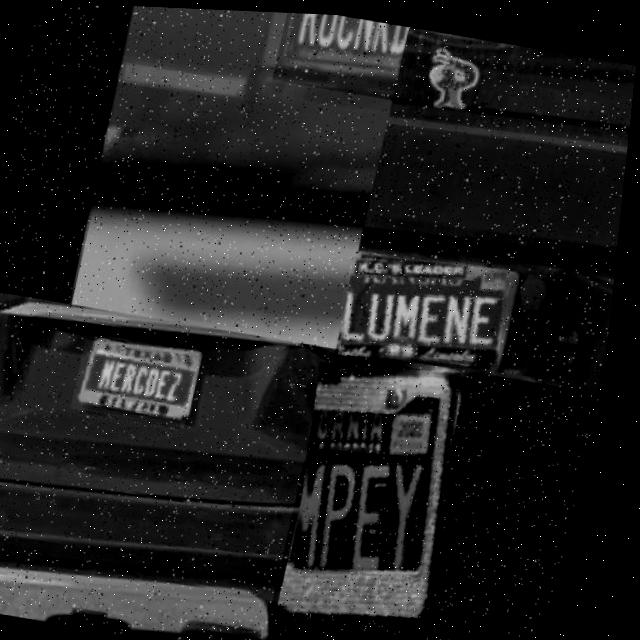LicensePlate: (277, 349, 488, 640), (345, 258, 515, 363), (271, 10, 409, 96), (79, 339, 206, 425)
